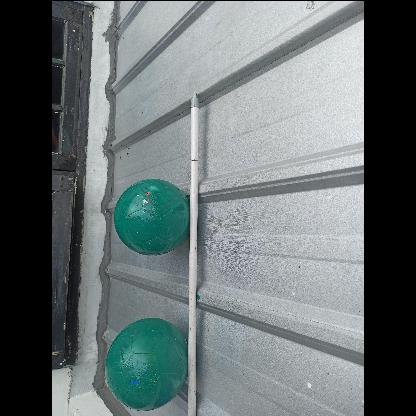green_ball: (101, 316, 194, 408), (112, 175, 190, 252)
